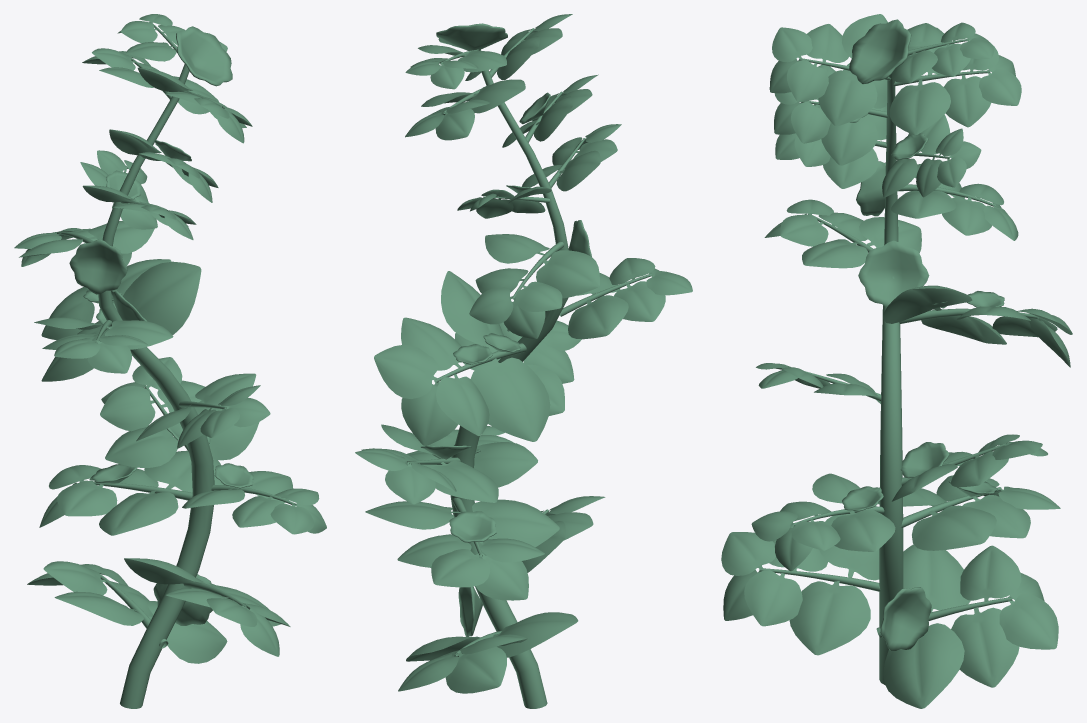
Rendered from TemporaryPlant.fbx.
3 views of the same model, side by side, from view 1: azimuth 30°, elevation 25°; view 2: azimuth 150°, elevation 25°; view 3: azimuth 270°, elevation 25° (orthographic). The views are drawn at different scales.
Visible parts, largest first — view 1: Vert.049; view 2: Vert.049; view 3: Vert.049.
Part boxes in pixels (x1,y1,x2,y2): Vert.049: [14, 14, 326, 708]; Vert.049: [355, 14, 692, 708]; Vert.049: [721, 14, 1072, 708].
Size of the model in its own units: 95.91 by 225 by 104.
